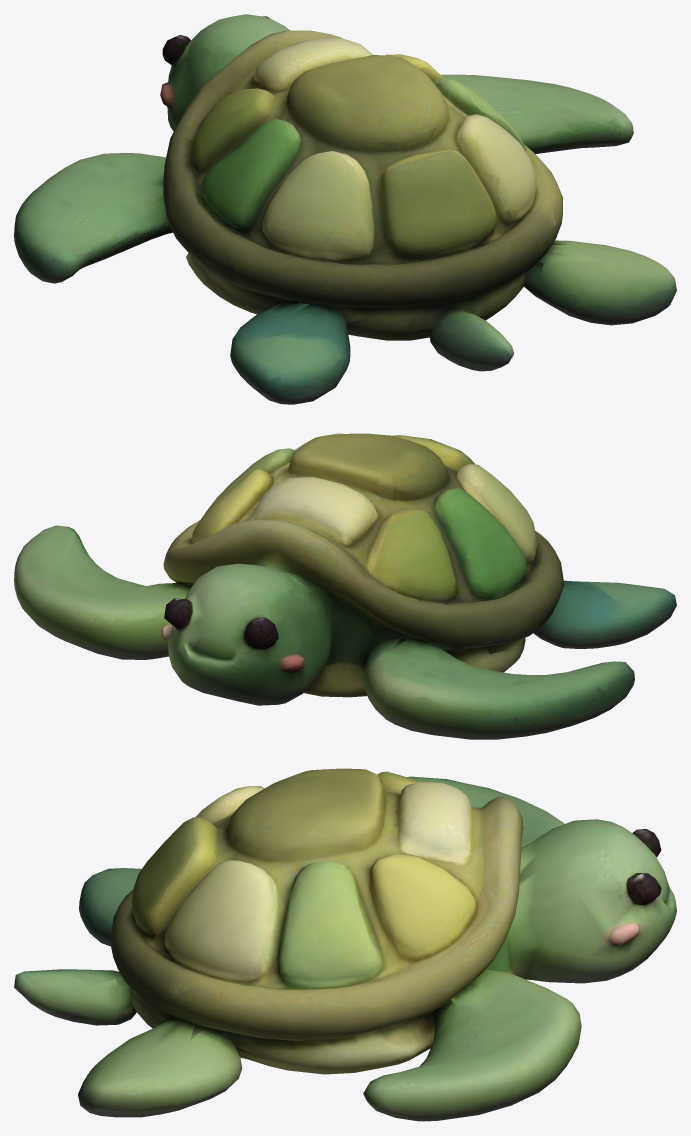
The model's file is turtle.glb.
The picture shows the model from 3 angles, top to bottom: view 1: azimuth 30°, elevation 25°; view 2: azimuth 150°, elevation 25°; view 3: azimuth 270°, elevation 25°; orthographic projection. The views are drawn at different scales.
Visible parts, largest first — view 1: low; view 2: low; view 3: low.
Part boxes in pixels (x1,y1,x2,y2): low: [14, 14, 676, 404]; low: [14, 433, 676, 739]; low: [14, 768, 676, 1121].
Bounding box in the file's own units: 5.81 × 2 × 5.16.
Materials: 1 (1 with a texture image).
